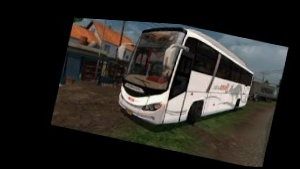bus: (114, 21, 260, 144)
